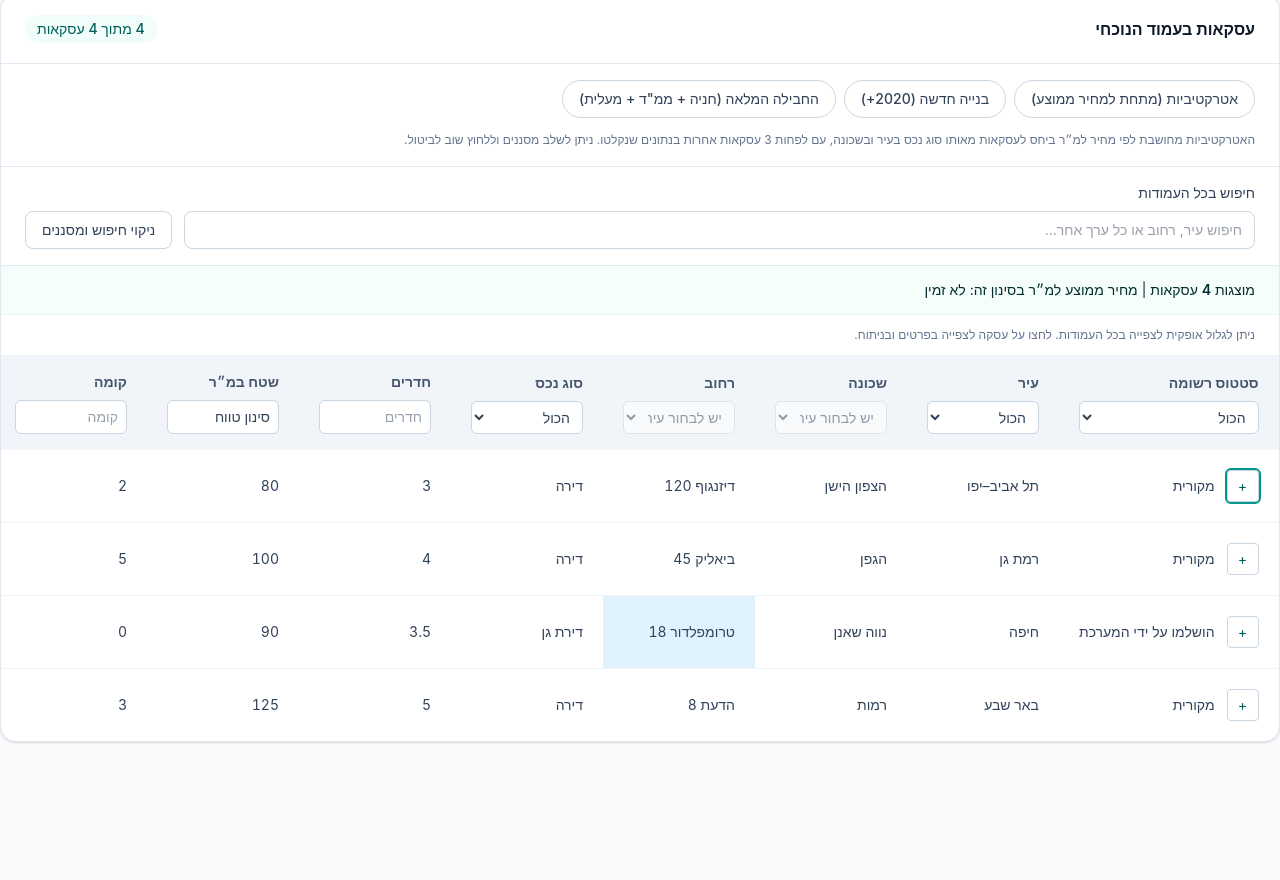
Test case: has one open row, an accessible toggle, and restores focus on close
The image size is (1280, 880).
# Native button activation provides keyboard support without custom key handlers.
Click the button named "פתיחת פרטי העסקה row-2". click: click(1243, 486)
box: 1227,470 -> 1259,502
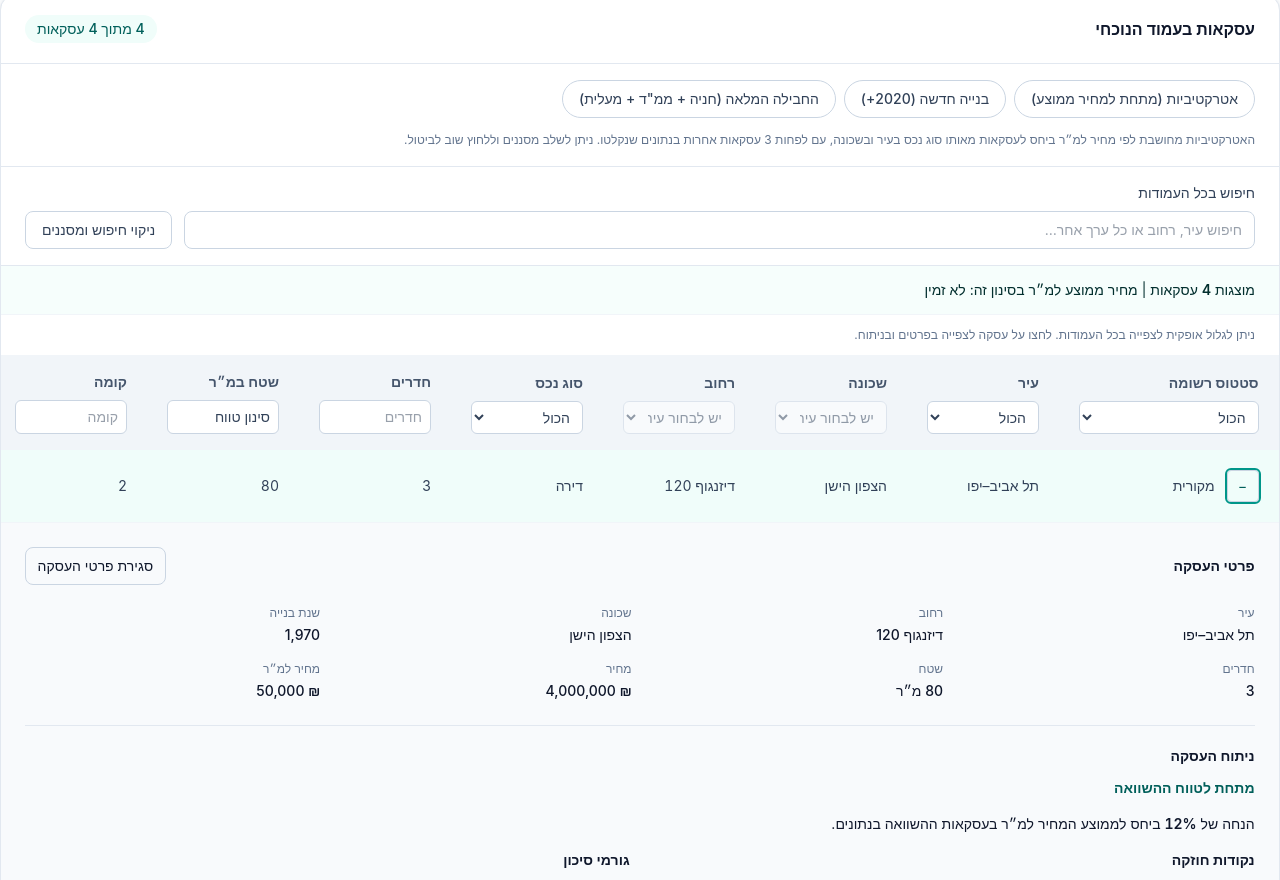
Check: the text "מתחת לטווח ההשוואה" is shown, box 1114,779 -> 1255,796
Click the button "סגירת פרטי העסקה". click: click(96, 566)
box: 25,547 -> 166,585
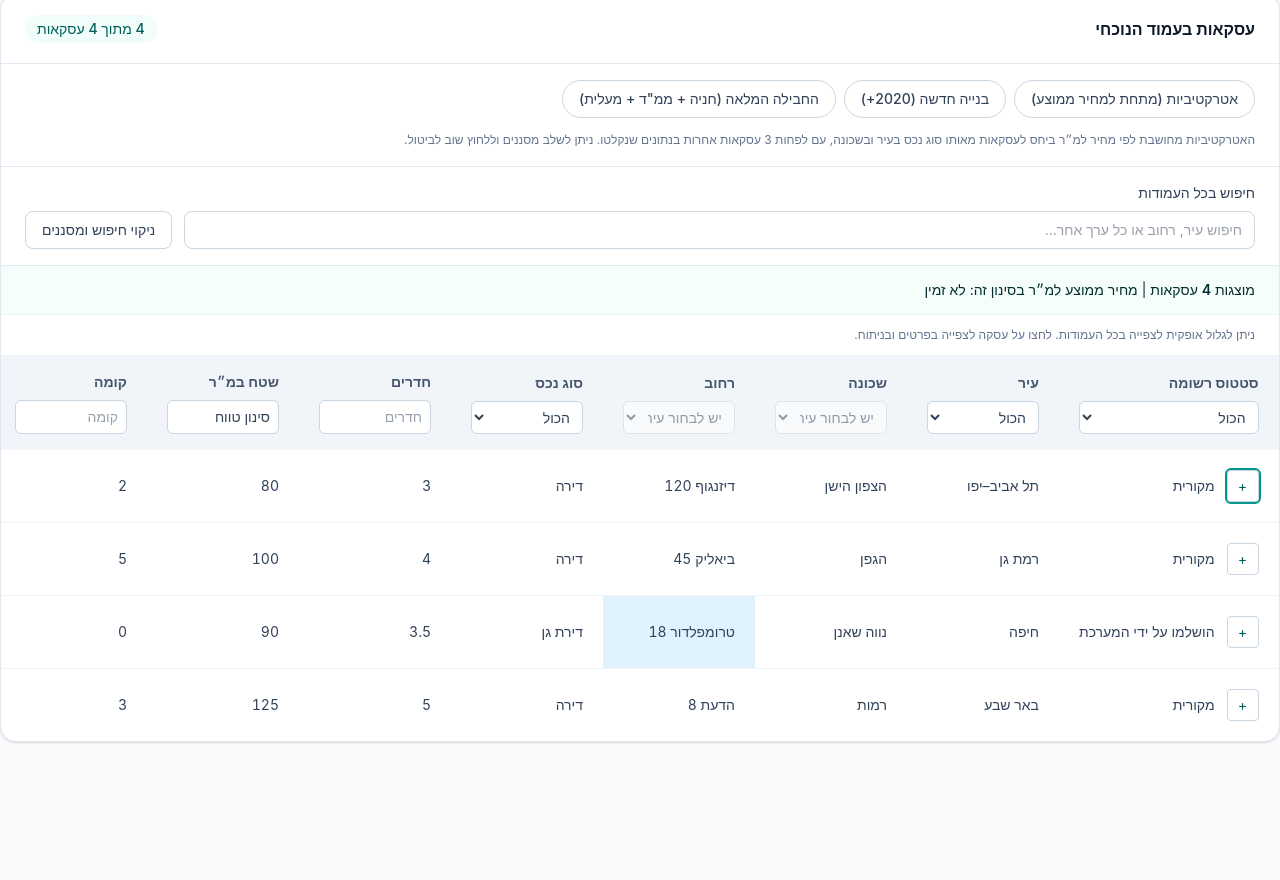
Click the button named "פתיחת פרטי העסקה row-2". click: click(1243, 486)
box: 1227,470 -> 1259,502
(page scrolled)
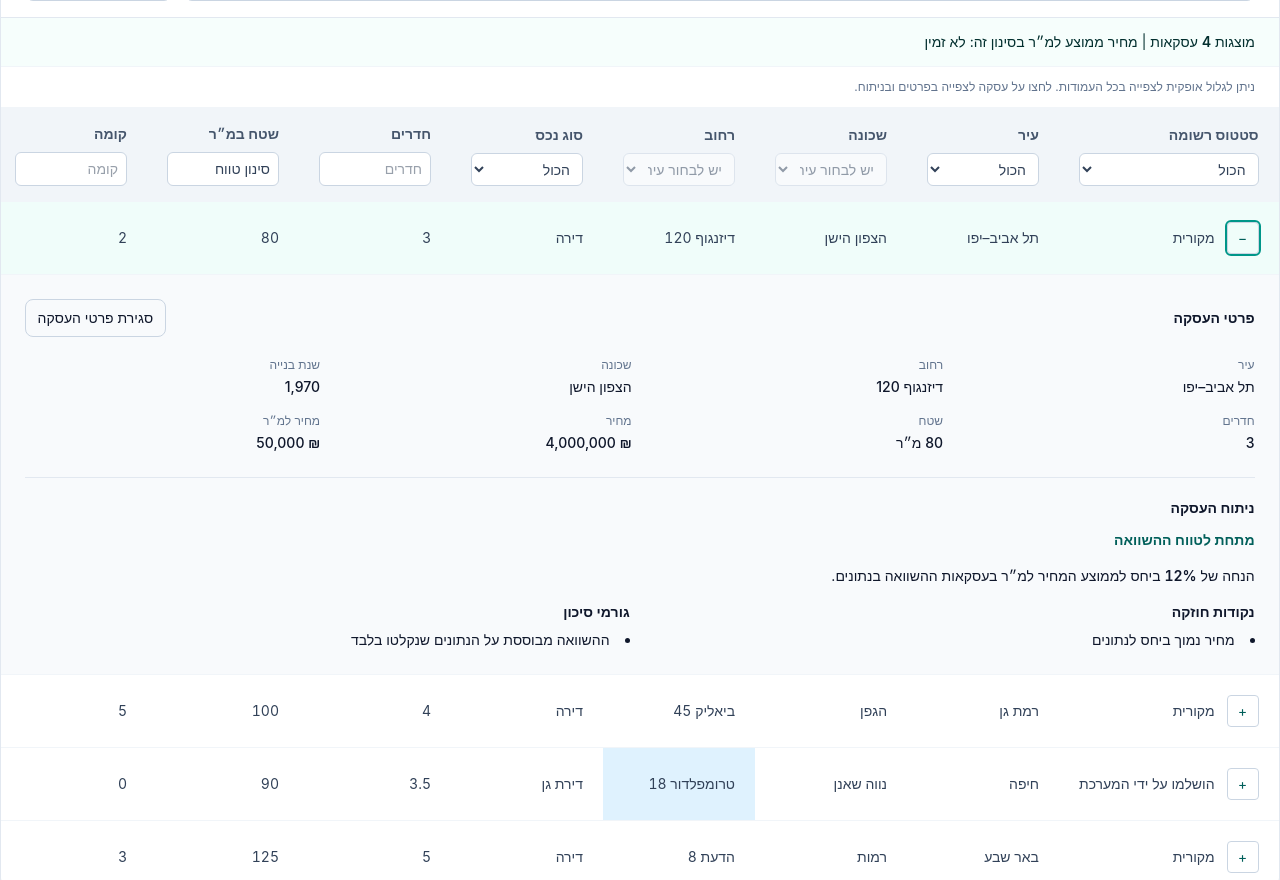
Click the button "+" in the row of "רמת גן". click: click(1243, 711)
box: 1227,695 -> 1259,727
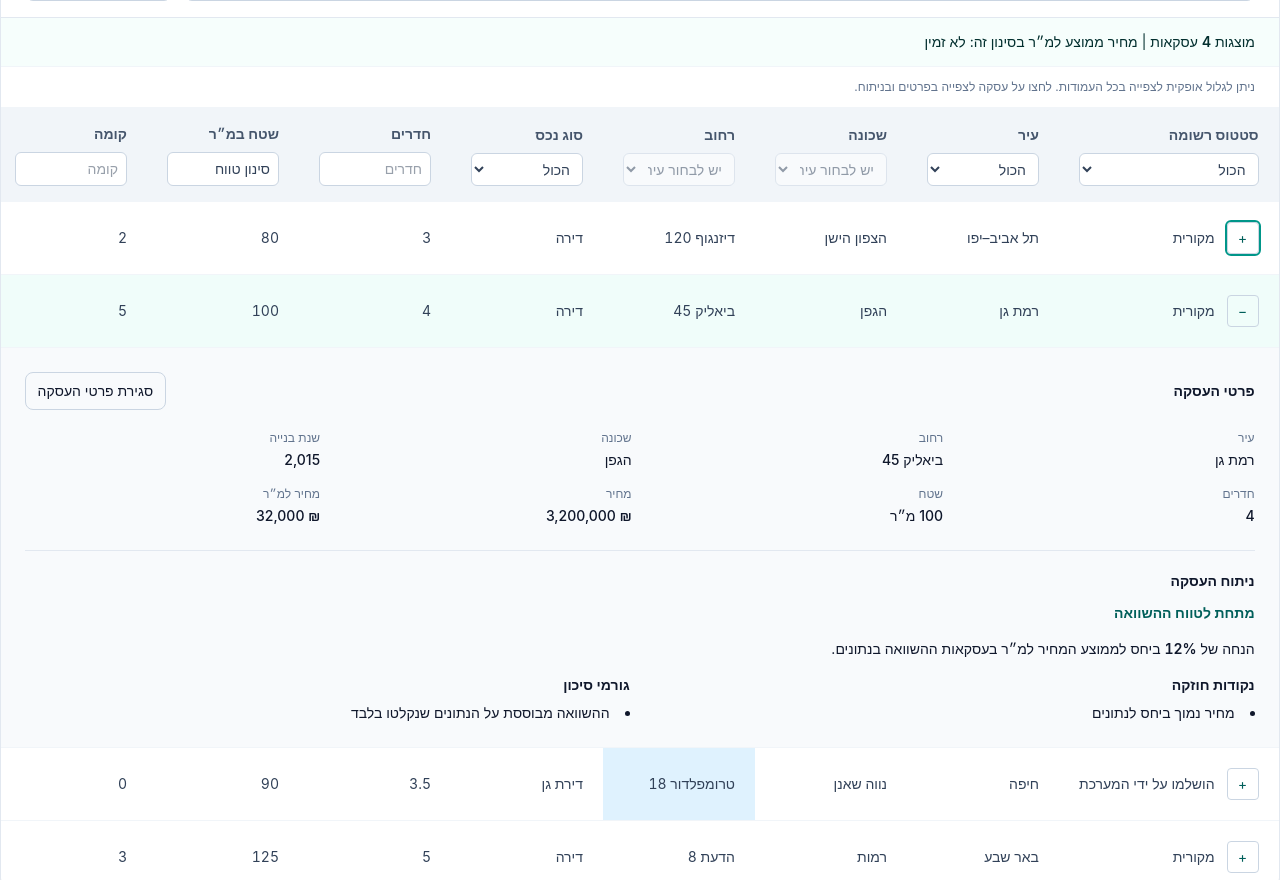
Check: the text "מתחת לטווח ההשוואה" is shown, box 1114,604 -> 1255,621
Check: the number of elements "פרטי העסקה" is 1, box 1,348 -> 1279,747
Check: the text "רמת גן" in the row of "2,015" is shown, box 1215,451 -> 1255,468
